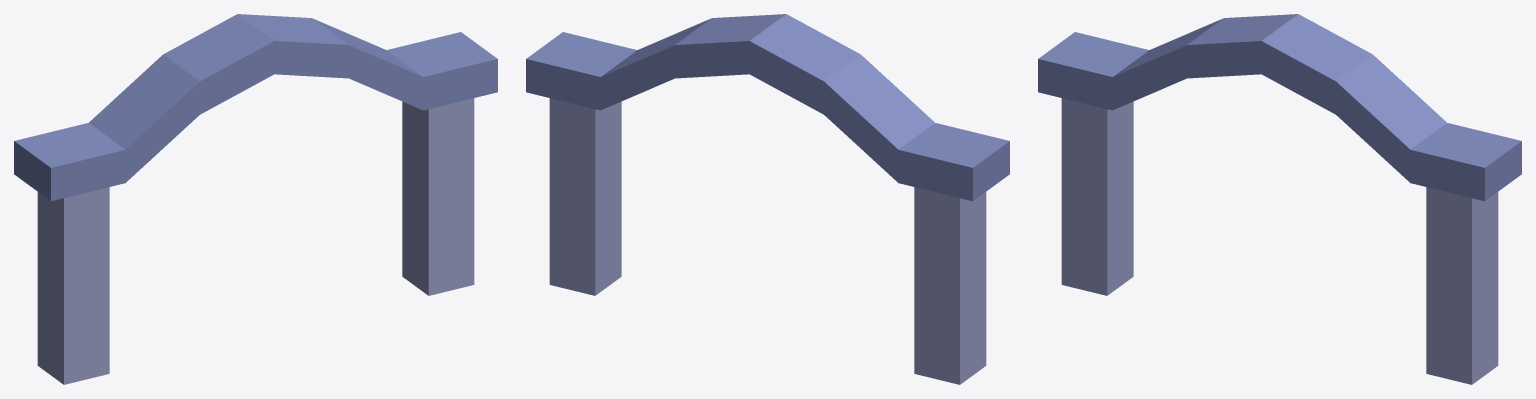
The model's file is bridge_arch_1a_1.fbx.
3 views of the same model, side by side, from view 1: azimuth 30°, elevation 25°; view 2: azimuth 150°, elevation 25°; view 3: azimuth 330°, elevation 25° (orthographic).
Visible parts, largest first — view 1: bridge_arch_1a_1; view 2: bridge_arch_1a_1; view 3: bridge_arch_1a_1.
Boxes of the visible parts, x1,y1,x2,y2 form: bridge_arch_1a_1: [14, 14, 497, 384]; bridge_arch_1a_1: [526, 14, 1009, 384]; bridge_arch_1a_1: [1038, 14, 1521, 384].
Size of the model in its own units: 9.8 by 6.24 by 1.4.
